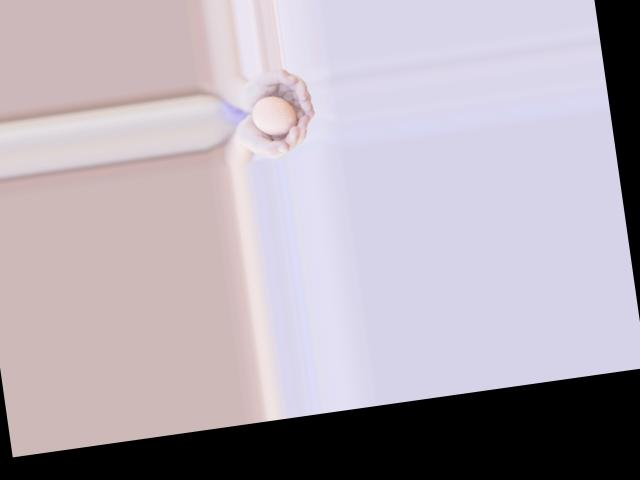egg: (249, 92, 298, 138)
